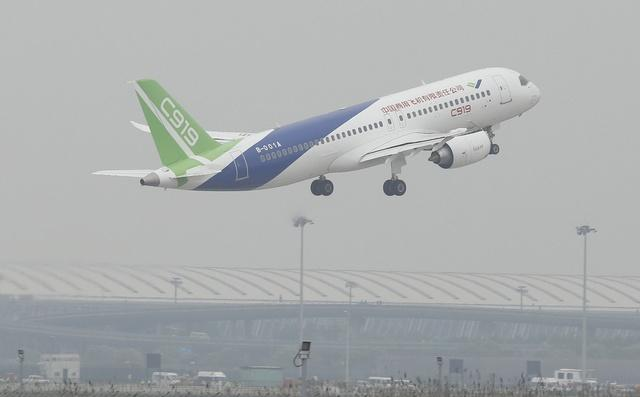airplane: (96, 63, 545, 195)
